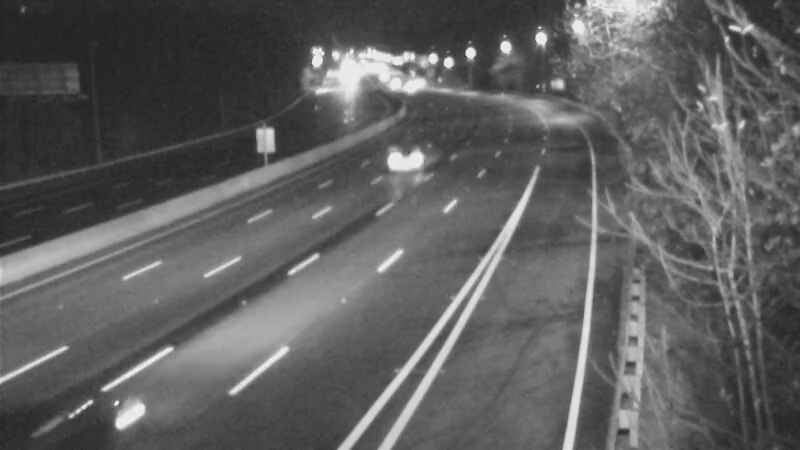vehicle: (36, 352, 146, 450), (365, 128, 445, 208)
